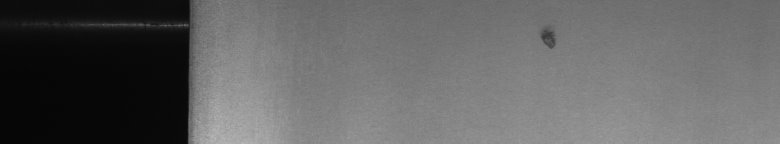fi: (536, 20, 560, 56)
